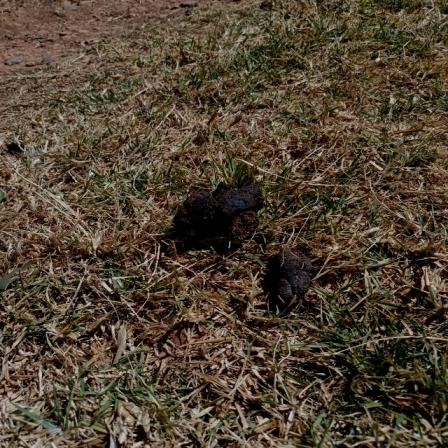dog-poop: (161, 166, 264, 255), (266, 250, 315, 312)
